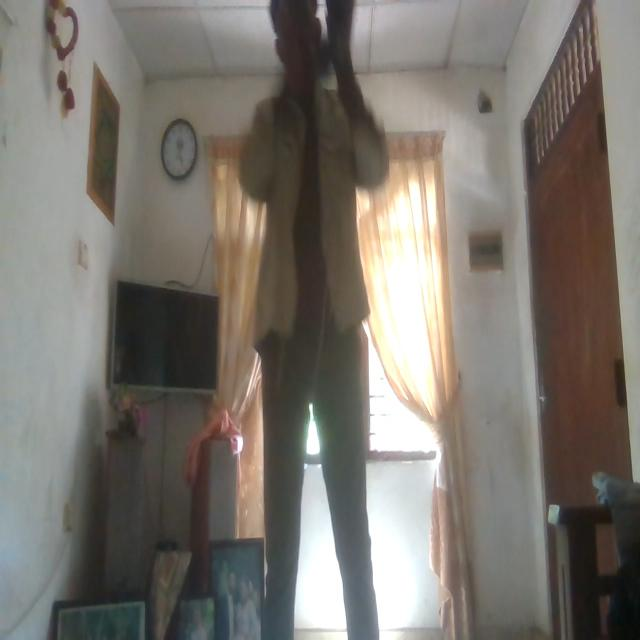Jacket_Wearer: (236, 94, 384, 334)
Person: (226, 2, 387, 640)
